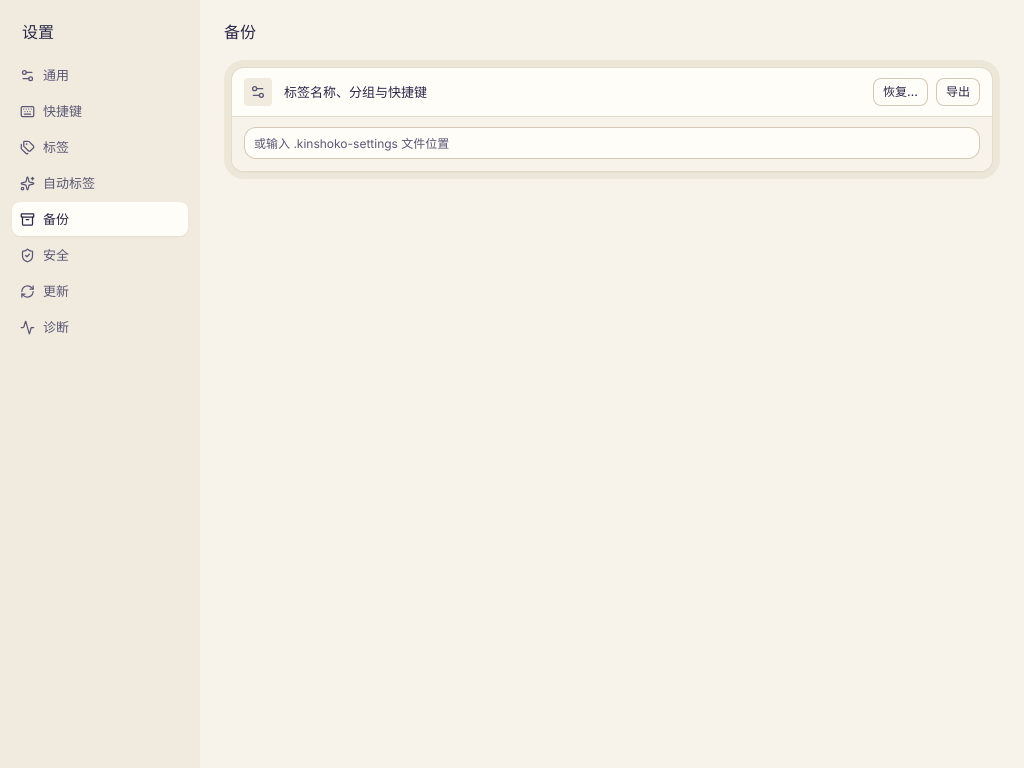
Scenario: 程序设置备份 › 恢复还没回来时改标签外观，只把改的那项叠到恢复的结果上（#321）
The image size is (1024, 768).
Type "C:/backup/a.kinshoko-settings" into the field named "偏好设置备份文件". click: (612, 143)
box: [244, 127, 980, 159]
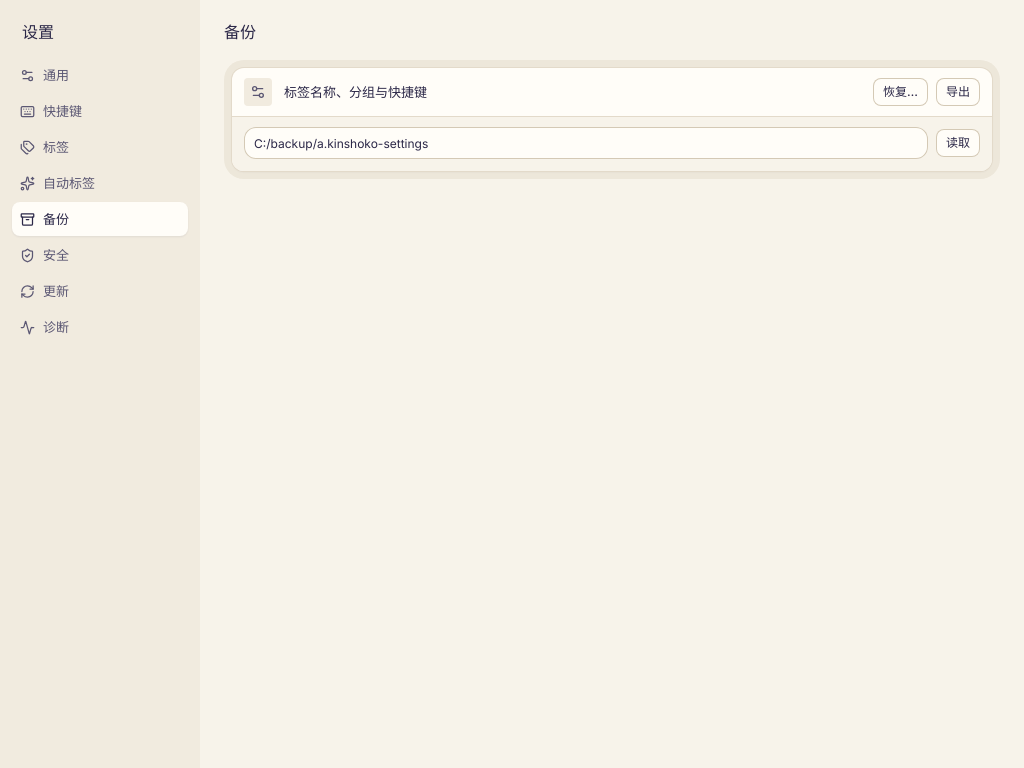
Click the button "读取". click: (958, 143)
box: [936, 129, 980, 157]
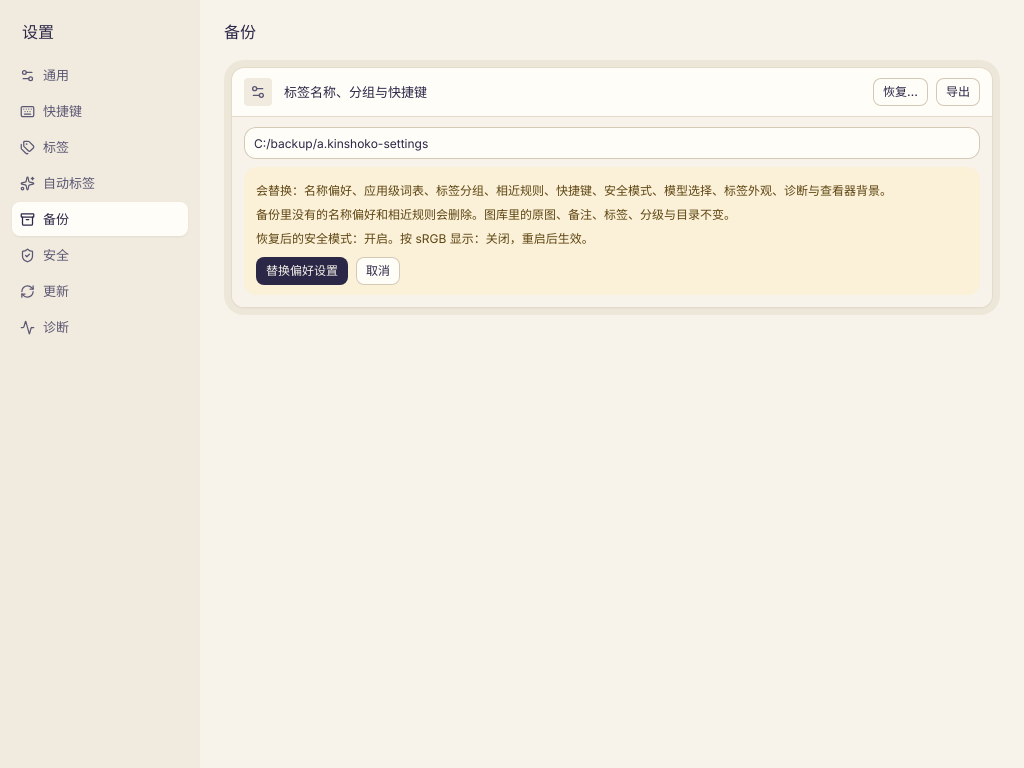
Click the button "替换偏好设置". click: (302, 271)
box: [256, 257, 348, 285]
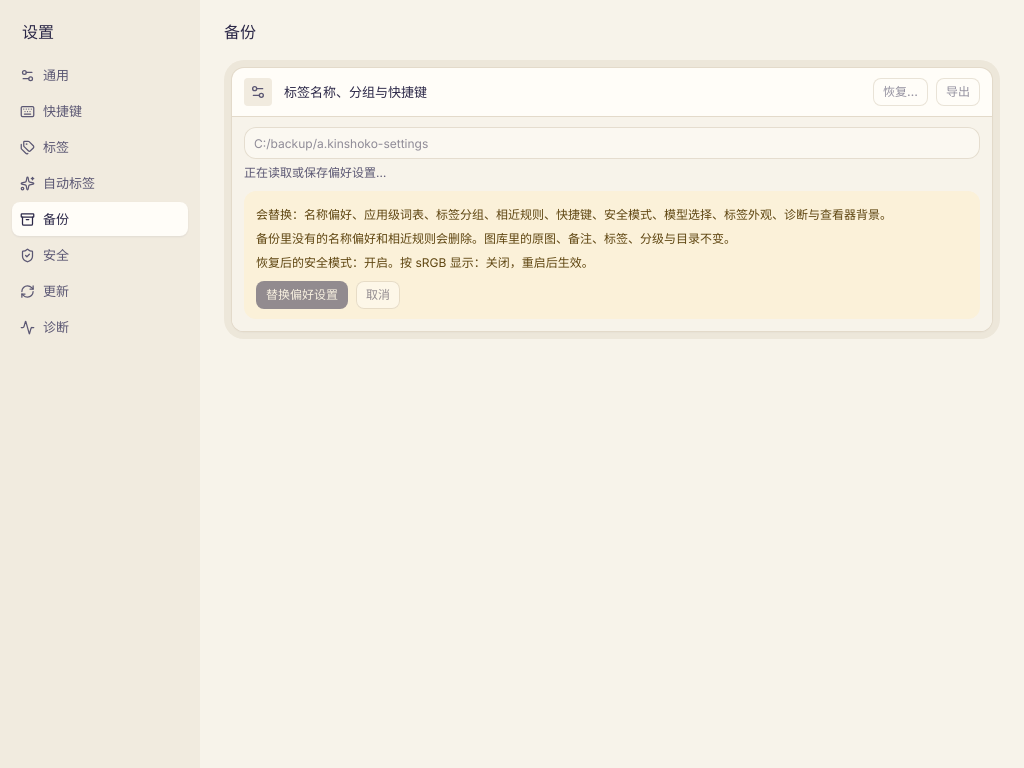
Click the tab "标签". click: (100, 147)
box: [12, 130, 188, 164]
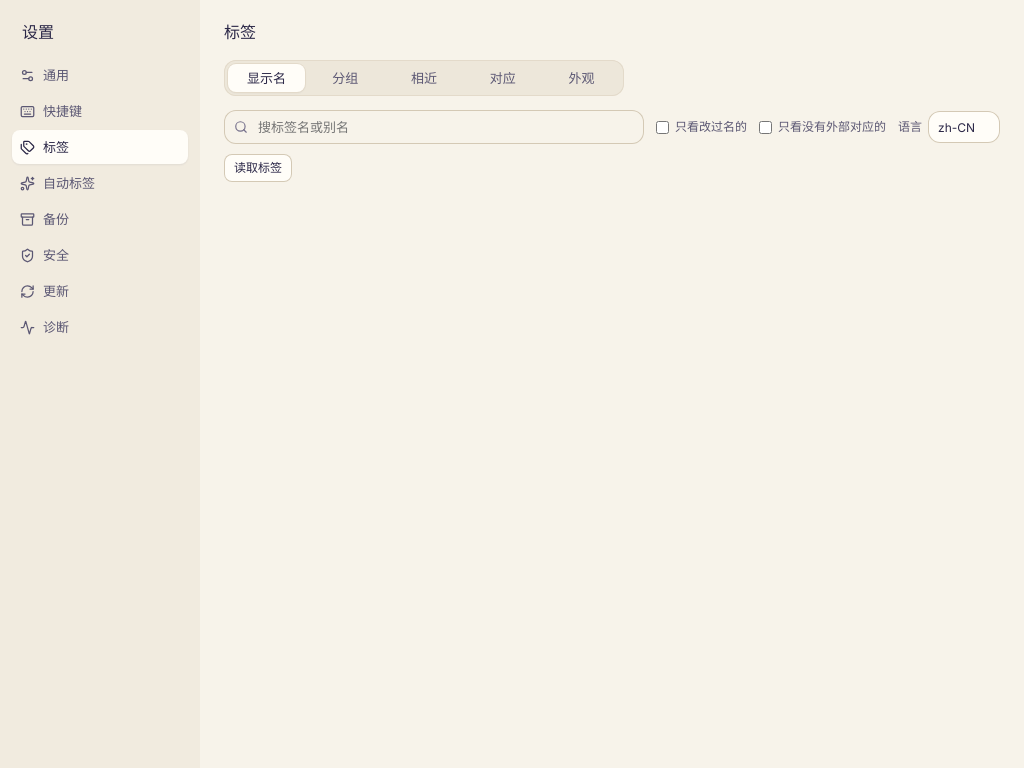
Now the heading "标签" is shown, box [224, 22, 256, 42]
Click the button "外观". click: (582, 78)
box: [543, 64, 620, 92]
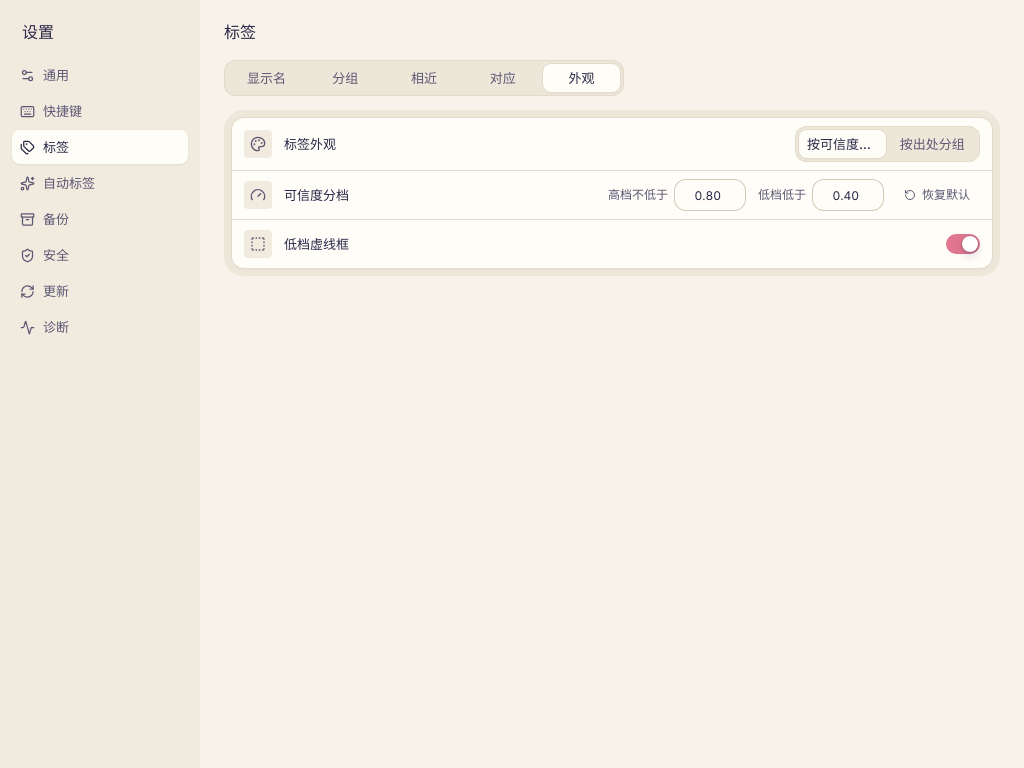
Click the switch named "低档虚线框". click: (963, 244)
box: [946, 234, 980, 254]
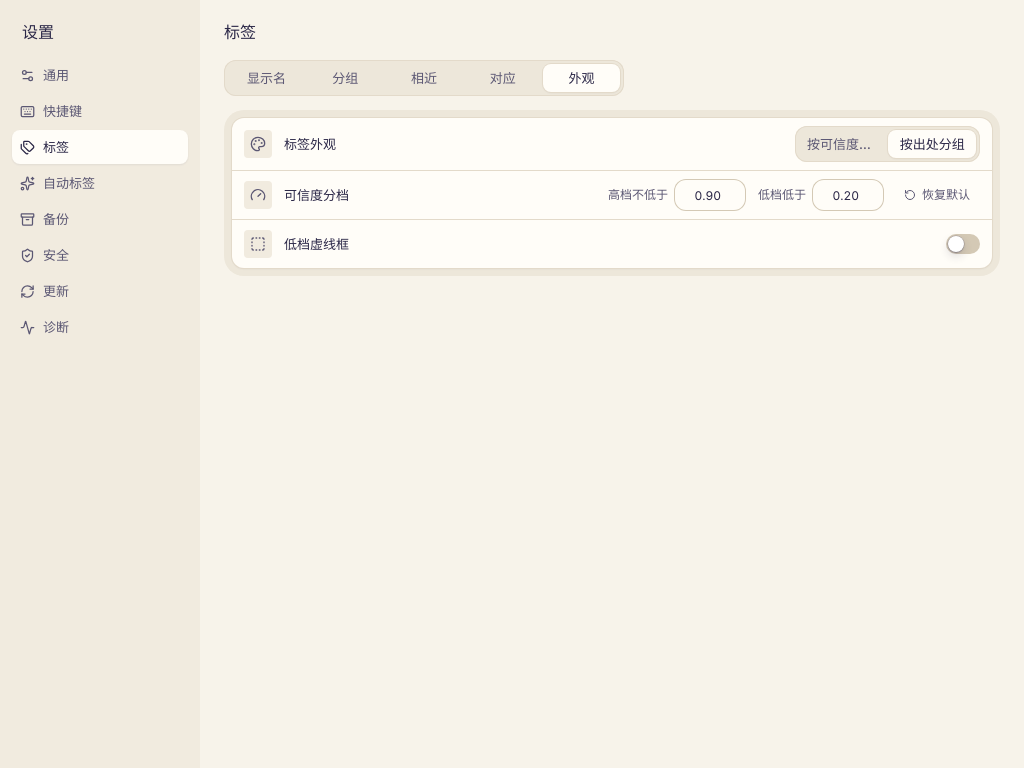
Now the number field named "高档下限" holds "0.90", box [674, 179, 746, 211]
